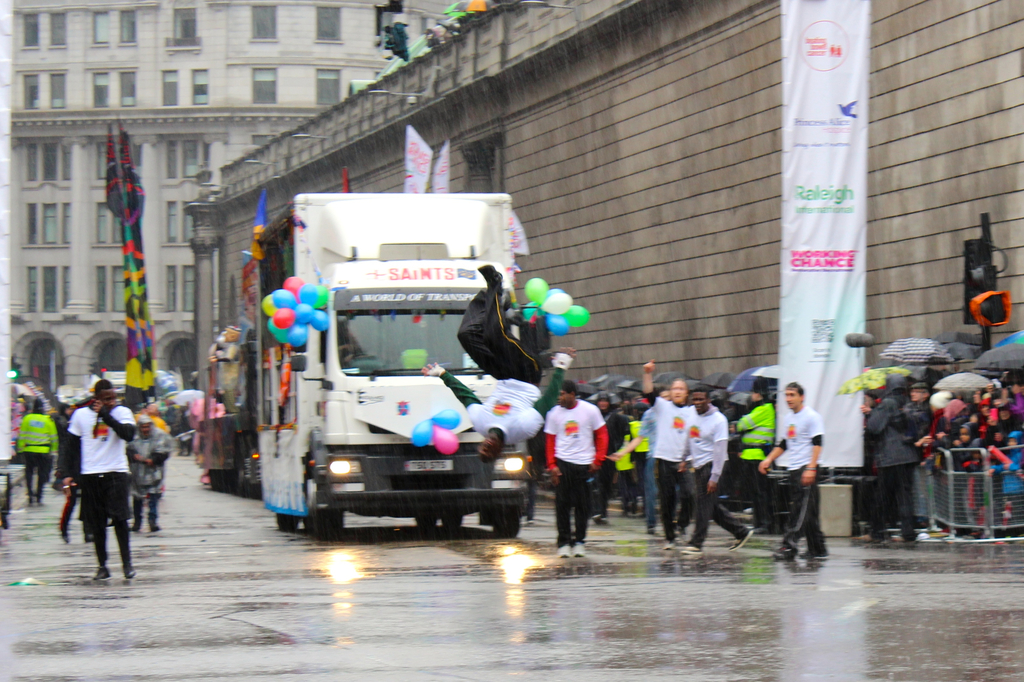truck: (208, 159, 582, 547)
